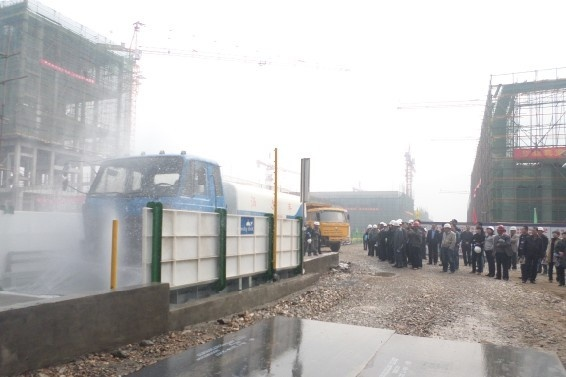none: (552, 228, 560, 239), (520, 224, 528, 235), (531, 226, 538, 236), (475, 226, 482, 234), (465, 224, 471, 231)
red: (496, 223, 504, 235), (413, 222, 420, 228)
white: (486, 226, 495, 236), (443, 223, 451, 232), (509, 225, 516, 234), (537, 226, 544, 234), (314, 221, 320, 228)
